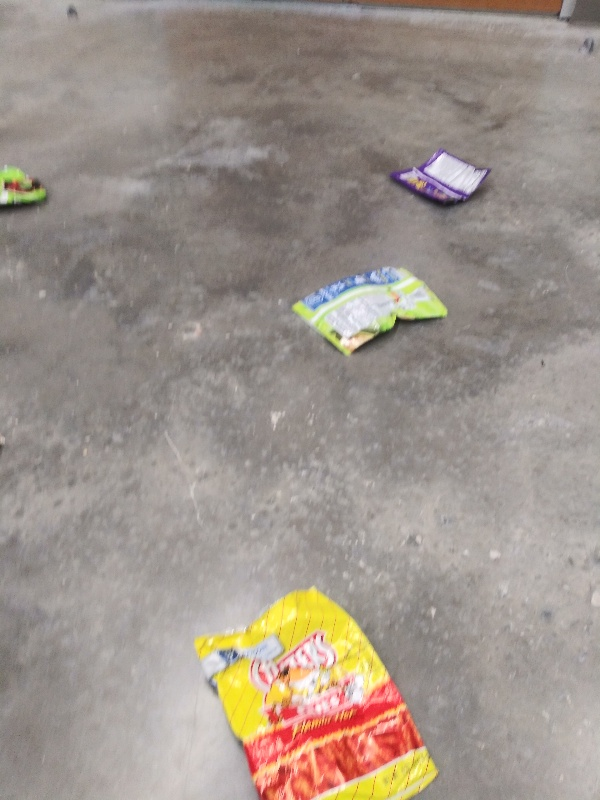bag: (184, 584, 446, 800), (292, 261, 454, 359), (388, 145, 500, 210), (1, 160, 52, 222)
